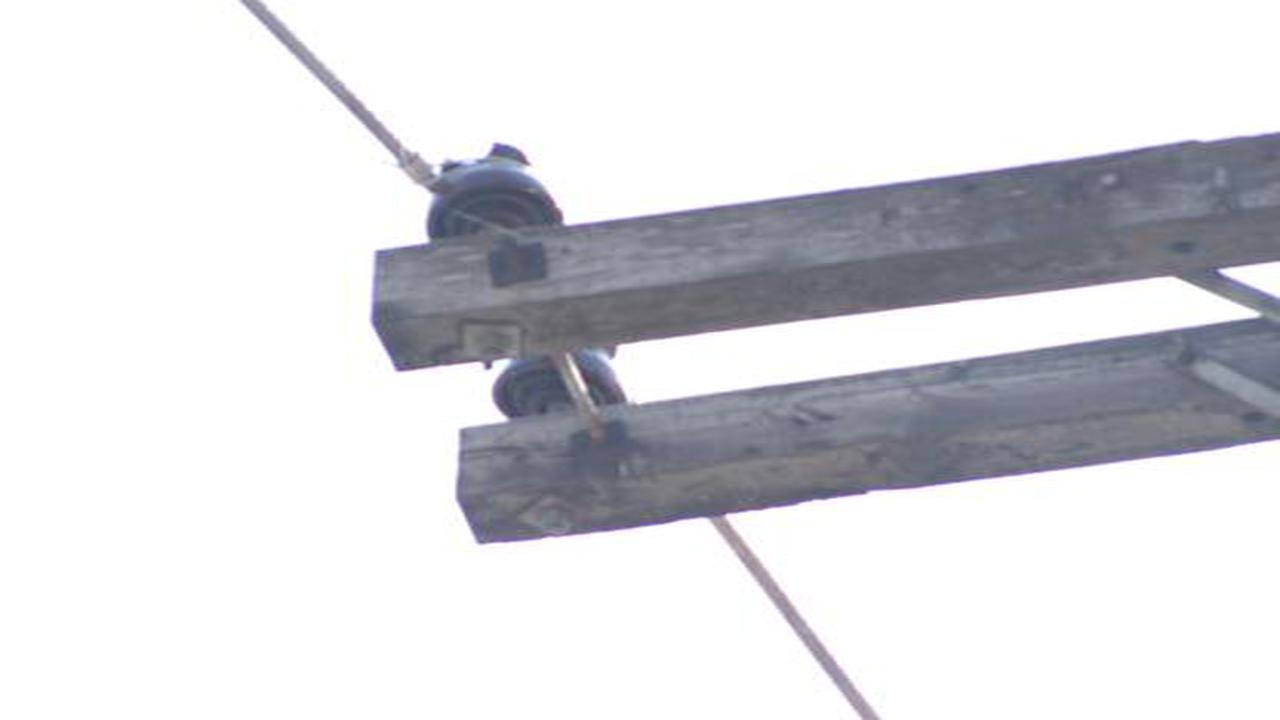insulator_pin: (417, 136, 577, 244), (486, 360, 640, 417)
